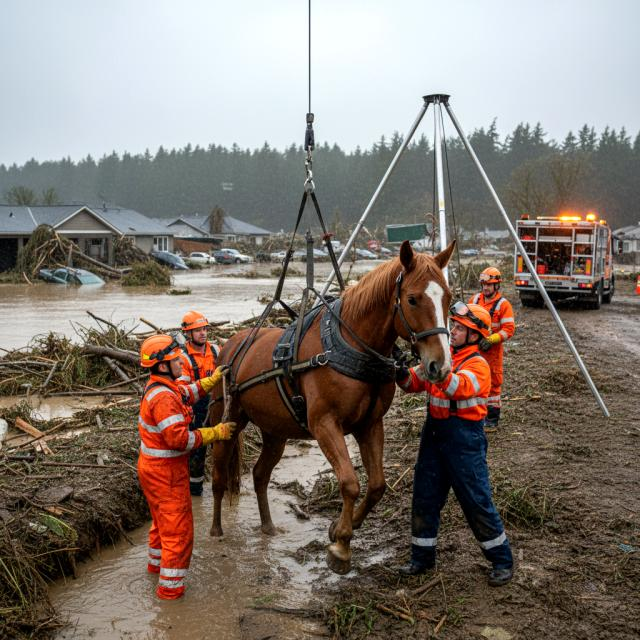horse: (200, 233, 462, 581)
rescuer: (398, 286, 524, 599), (125, 330, 236, 616), (166, 308, 238, 504), (456, 257, 523, 441)
